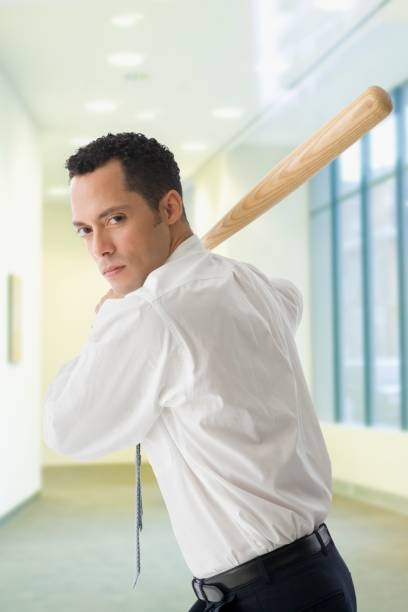bita: (189, 79, 389, 251)
